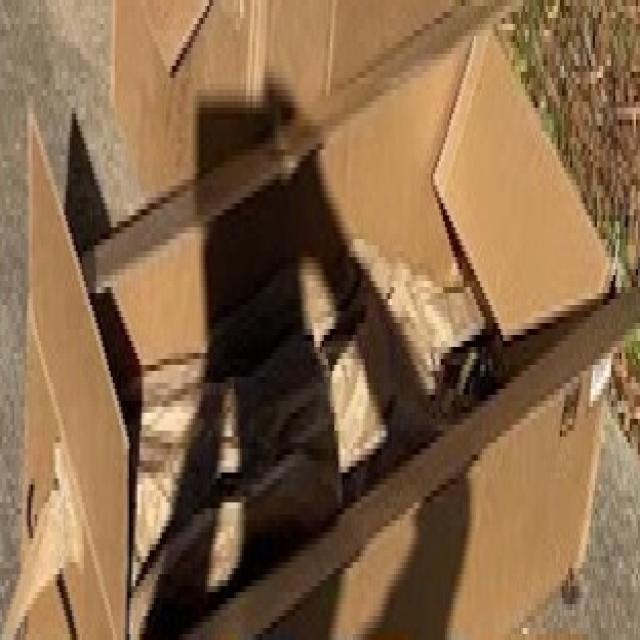cardboard: (3, 0, 640, 616)
